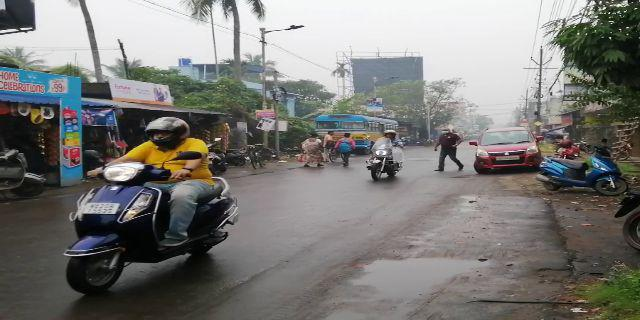Car: (478, 123, 538, 175)
Motorbike: (63, 114, 236, 287), (534, 144, 627, 197), (366, 132, 403, 183)
